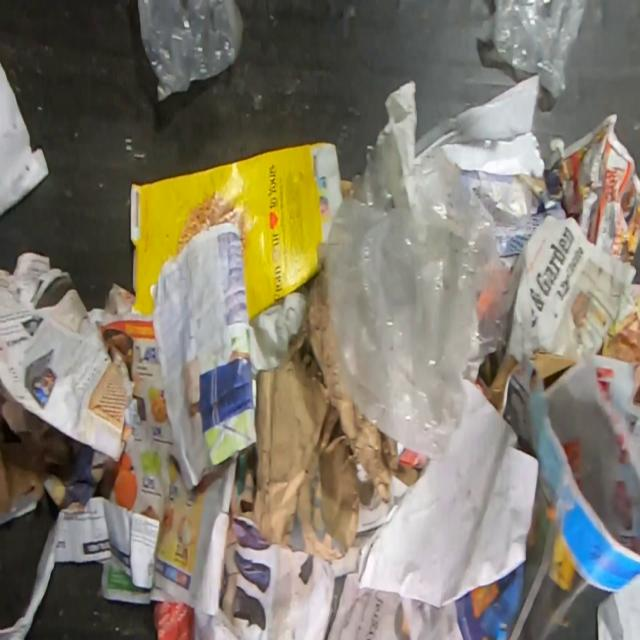cardboard: (252, 241, 419, 561), (129, 142, 344, 322)
soft_plastic: (326, 121, 530, 464), (135, 0, 244, 103), (490, 0, 587, 99)
